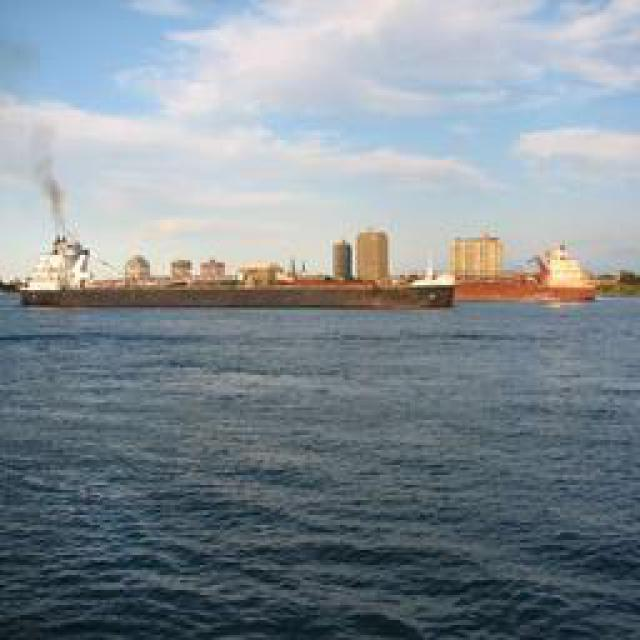Ship: (16, 239, 471, 314)
